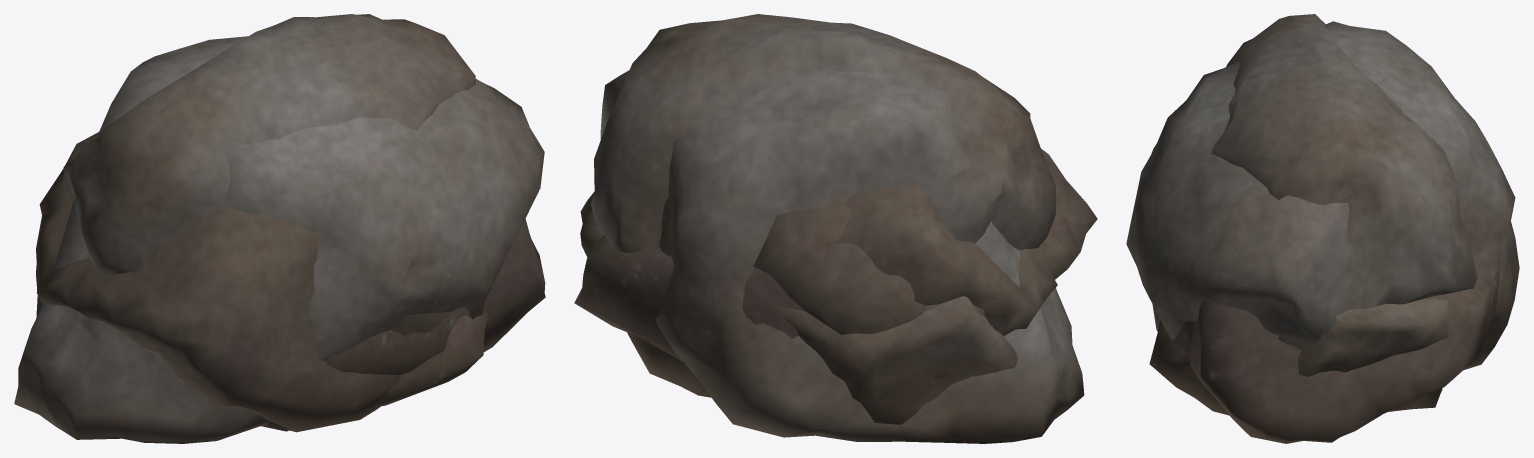
Rendered from campfire_rocks.glb.
3 views of the same model, side by side, from view 1: azimuth 30°, elevation 25°; view 2: azimuth 150°, elevation 25°; view 3: azimuth 270°, elevation 25° (orthographic). The views are drawn at different scales.
Visible parts, largest first — view 1: rock_03, rock_05, rock_01, rock_02, rock_07, rock_08; view 2: rock_03, rock_05, rock_01, rock_07, rock_08; view 3: rock_03, rock_05, rock_01, rock_07, rock_02.
Boxes of the visible parts, x1,y1,x2,y2 form: rock_03: (14,36,544,443); rock_05: (63,14,475,276); rock_01: (36,132,545,432); rock_02: (314,302,484,375); rock_07: (36,266,489,431); rock_08: (392,312,450,335); rock_03: (600,70,1084,443); rock_05: (591,14,1055,253); rock_01: (574,149,1097,361); rock_07: (580,191,1017,424); rock_08: (753,198,926,334); rock_03: (1126,21,1519,370); rock_05: (1211,14,1477,309); rock_01: (1151,144,1500,443); rock_07: (1149,298,1448,415); rock_02: (1154,307,1195,351).
Bounding box in the file's own units: 0.4493 × 0.3002 × 0.3406.
1 material, 1 textured.
